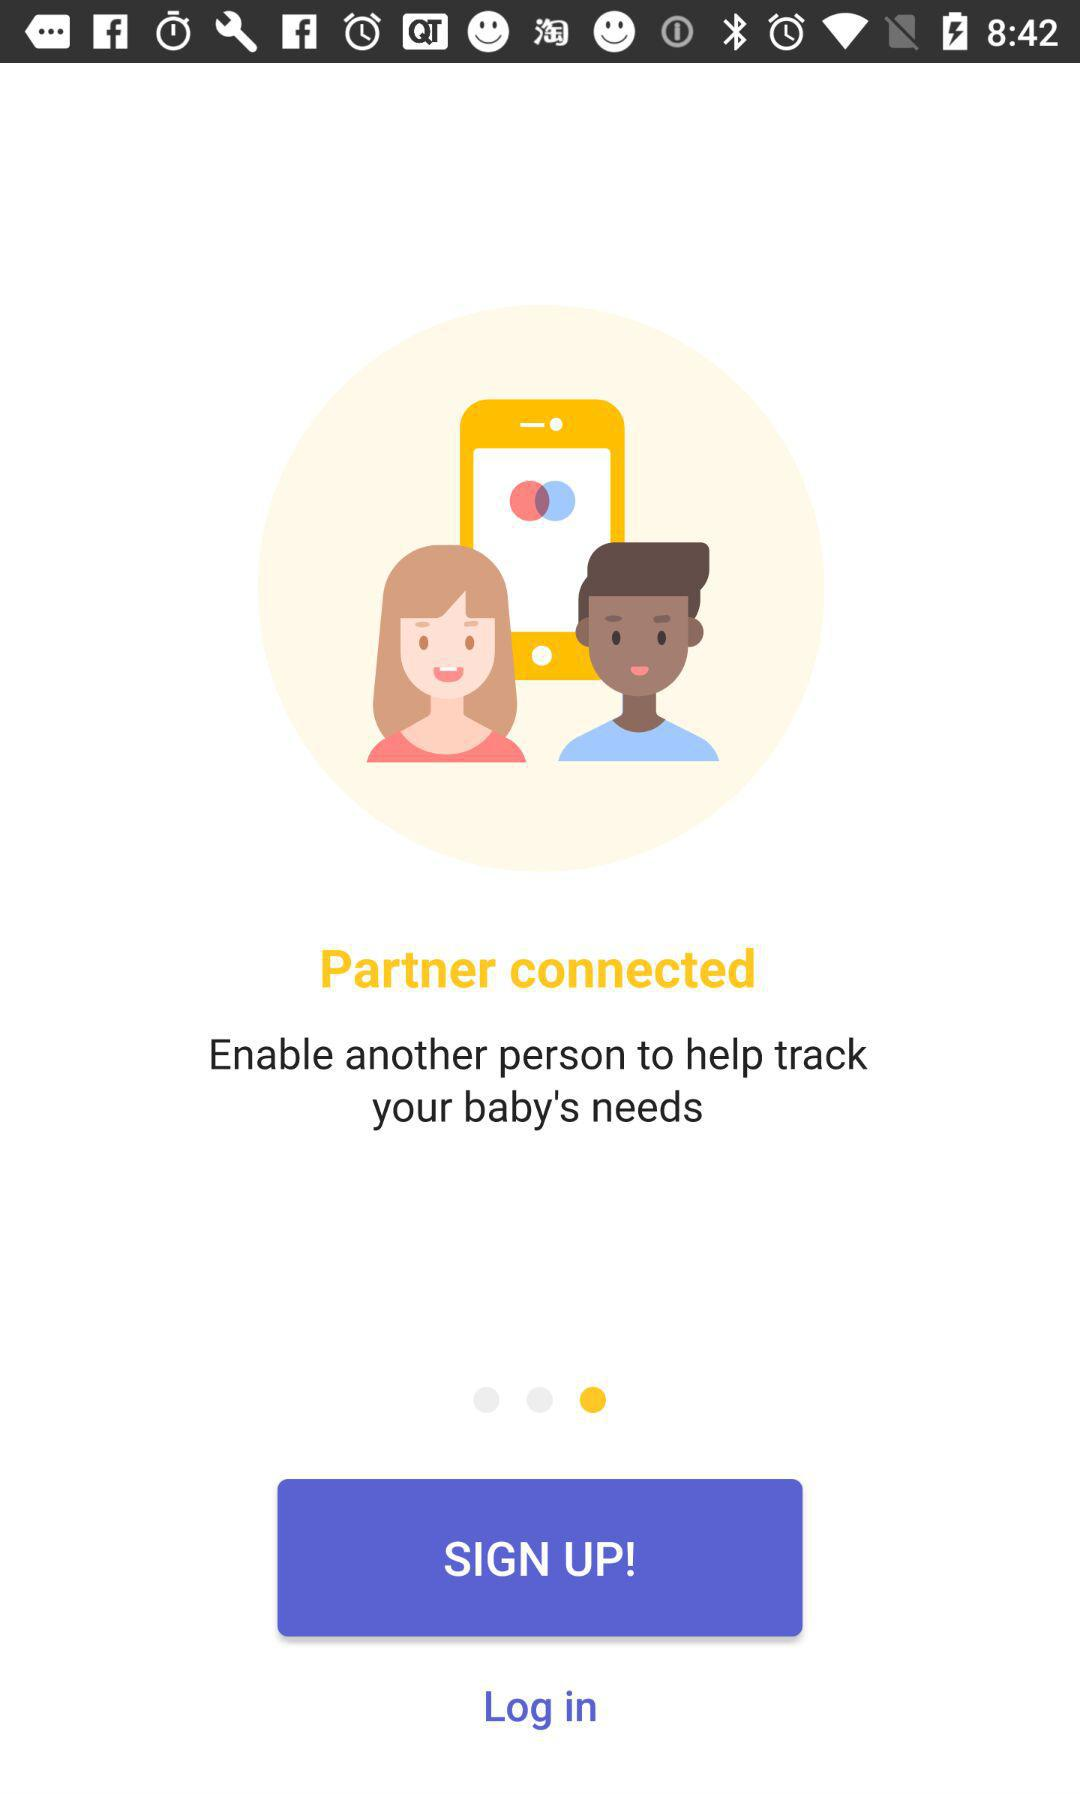Image: (256, 302, 829, 875)
PageIndicator: (473, 1387, 609, 1415)
Text: (211, 1035, 869, 1132), (322, 947, 756, 991), (486, 1689, 598, 1731)
TextButton: (277, 1477, 805, 1636)
UpperTaskBar: (1, 1, 1080, 64)
